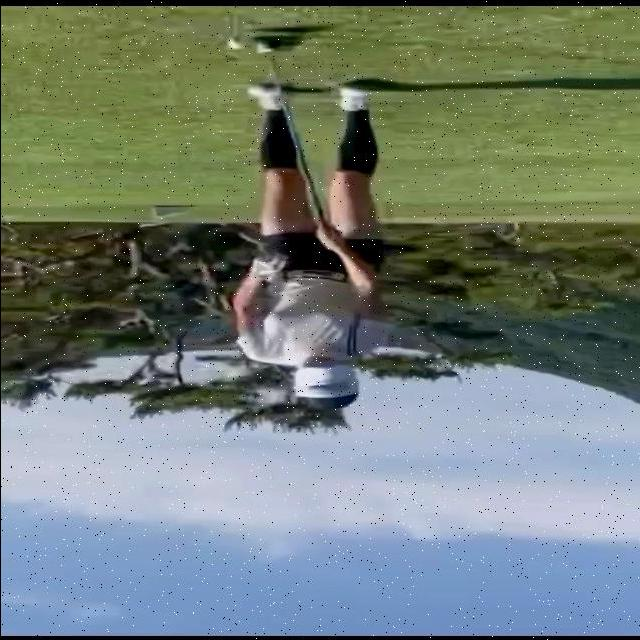golf ball: (225, 35, 246, 49)
golf club-handle: (238, 26, 332, 238)
golf club-head: (250, 32, 301, 52)
